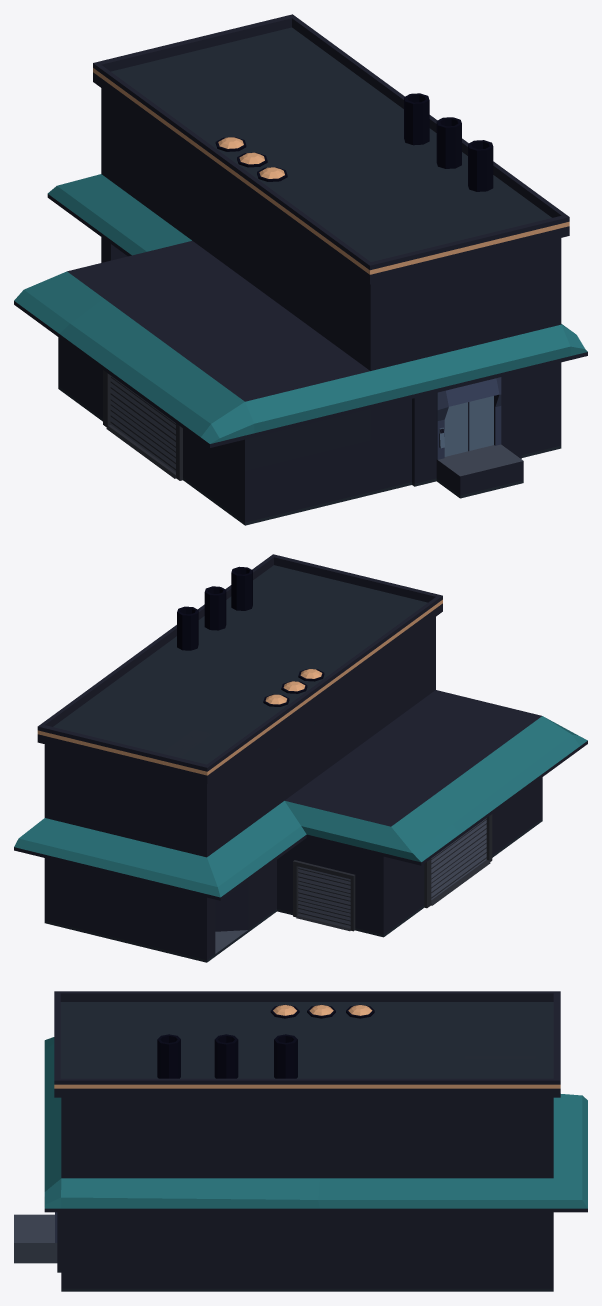
The model's file is Building_Shipping.fbx.
3 renders of one model, top to bottom at view 1: azimuth 30°, elevation 25°; view 2: azimuth 150°, elevation 25°; view 3: azimuth 270°, elevation 25°, orthographic. The views are drawn at different scales.
Parts seen in each view (by area): view 1: Cube.624, Cube.626, Cube.627; view 2: Cube.624; view 3: Cube.624.
Part boxes in pixels (left/top/right/bottom): Cube.624: left=14, top=14, right=587, bottom=525; Cube.626: left=468, top=396, right=493, bottom=450; Cube.627: left=444, top=402, right=468, bottom=456; Cube.624: left=14, top=554, right=587, bottom=962; Cube.624: left=14, top=991, right=587, bottom=1291.
Size of the model in its own units: 1831 by 1229 by 2635.
